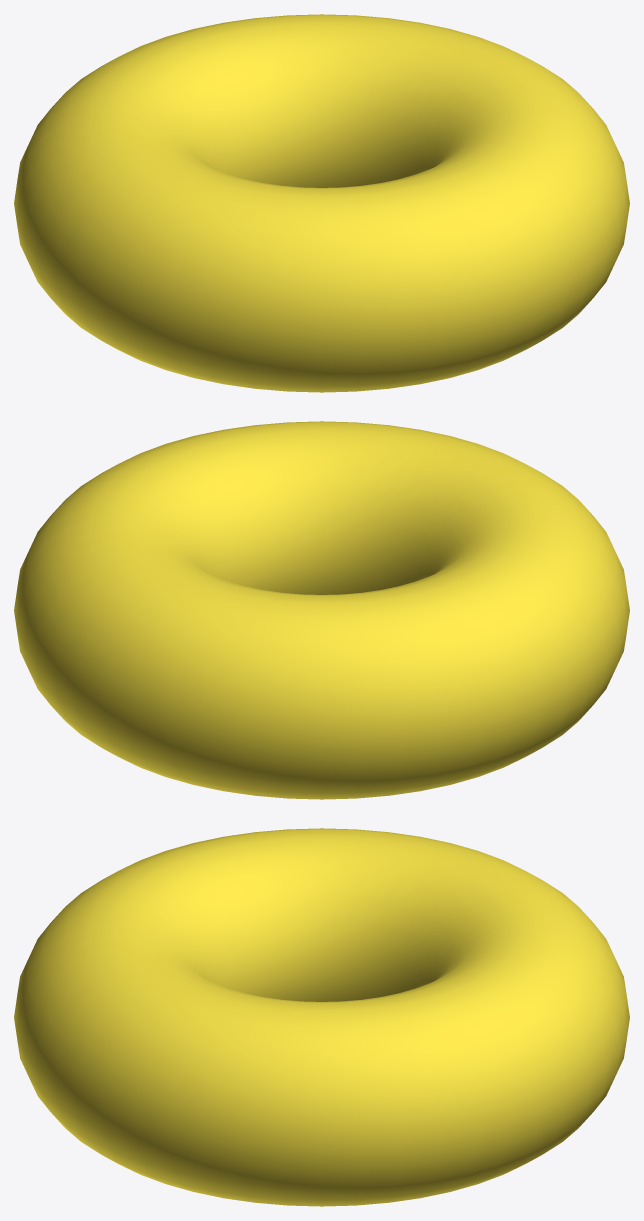
The picture shows the model from 3 angles, top to bottom: view 1: azimuth 30°, elevation 25°; view 2: azimuth 150°, elevation 25°; view 3: azimuth 270°, elevation 25°; orthographic projection.
Parts seen in each view (by area): view 1: SM_Torus; view 2: SM_Torus; view 3: SM_Torus.
Part boxes in pixels (<box>): SM_Torus: <box>14,14,629,392</box>; SM_Torus: <box>14,421,629,799</box>; SM_Torus: <box>14,828,629,1206</box>.
Bounding box in the file's own units: 150 × 50 × 150.
